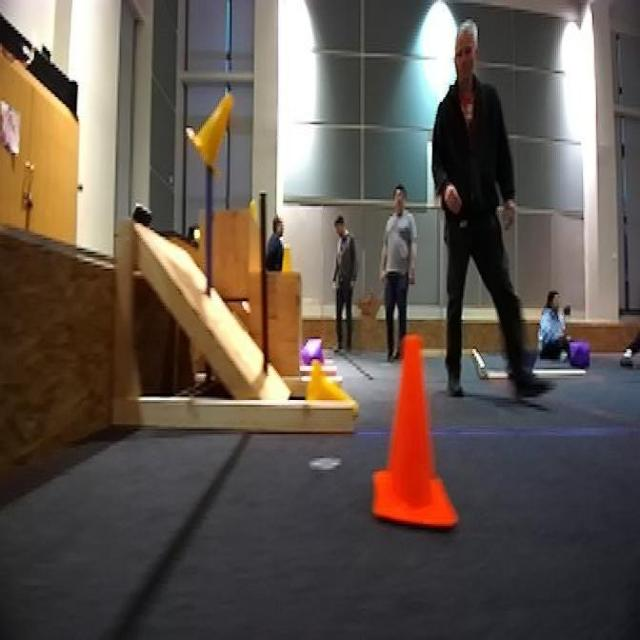frc_cone: (183, 92, 235, 177), (306, 359, 348, 402), (283, 243, 294, 274)
frc_cube: (563, 339, 590, 369), (305, 335, 324, 371)
